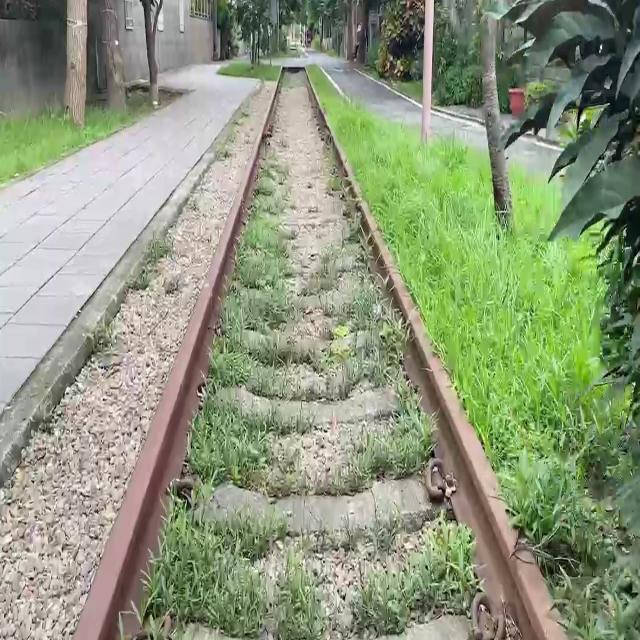rail-track: (146, 70, 476, 640)
